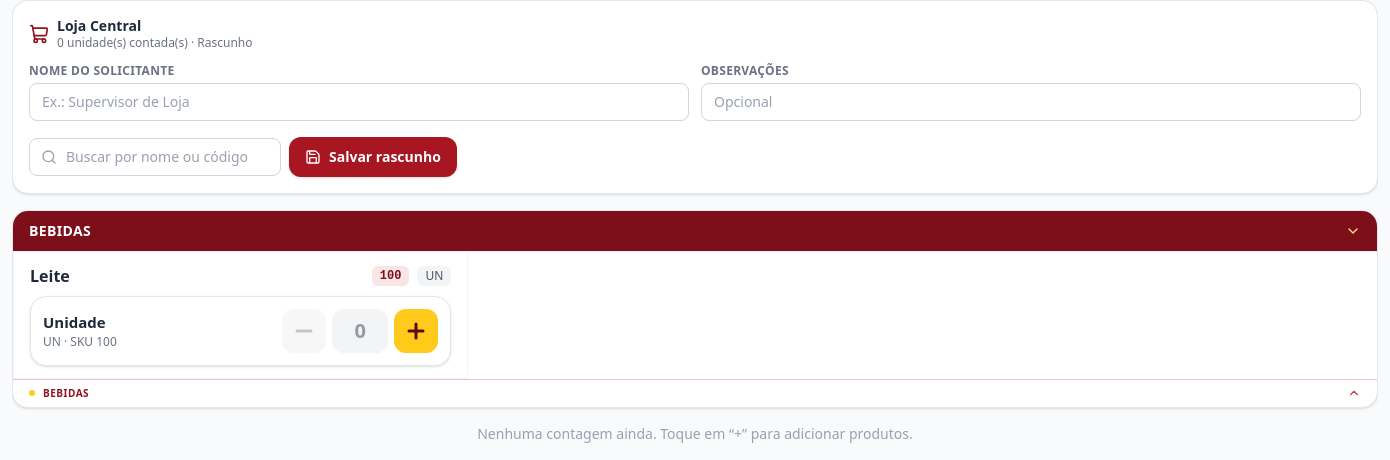
Test case: CountingBoard — categorias colapsadas persistidas › mantém a categoria colapsada ao remontar
The image size is (1390, 460).
What coordinates should you click on to do the following:
click the 1st button "Bebidas"
I would click on:
 (60, 230)
Its box is [13, 210, 1377, 250].
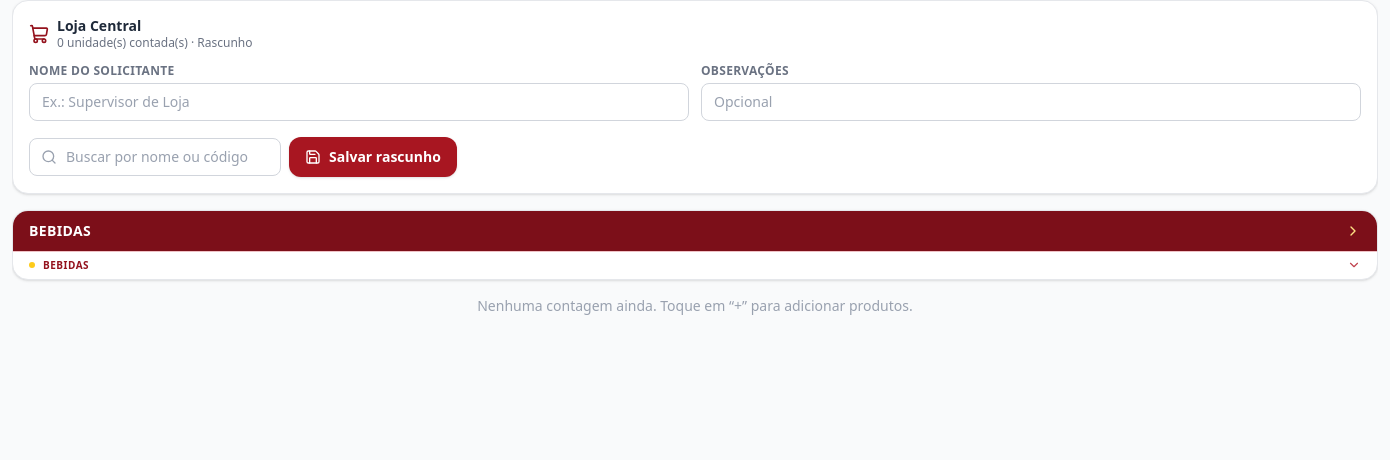
Expected: the 1st button "Bebidas" is collapsed, [13, 210, 1377, 250]
